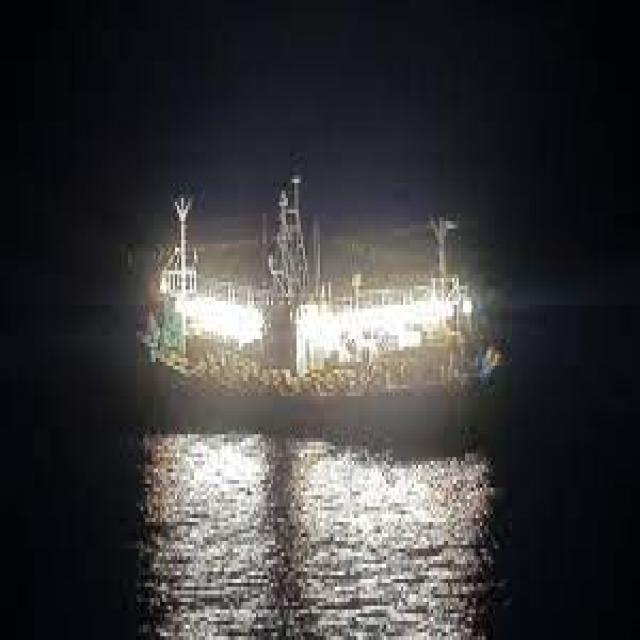Ship: (108, 161, 511, 447)
